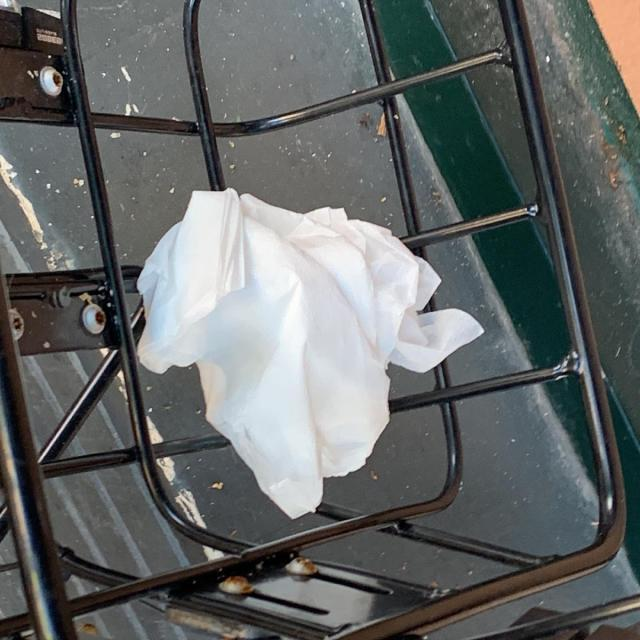Paper: (134, 187, 486, 521)
